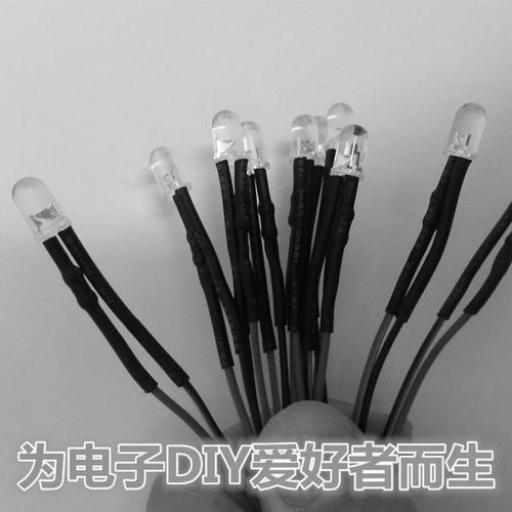LED: (422, 90, 497, 190), (8, 172, 98, 255), (194, 102, 254, 174), (134, 138, 196, 202), (335, 120, 387, 189), (270, 114, 323, 174)
